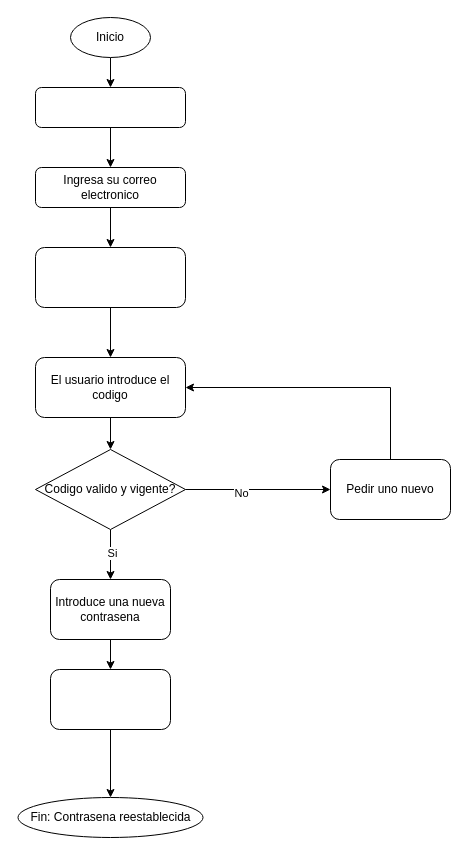
Image size: 468x855. Some labels were removed from this diagram. Each missing label, with the centre of its shape:
Cierra todas las sesiones y notifica el cambio por correo: point (110, 699)
Olvidaste tu contrasena: point (110, 107)
Se muestra el mensaje "Si existe una cuenta, recibirás un codigo": point (110, 277)
